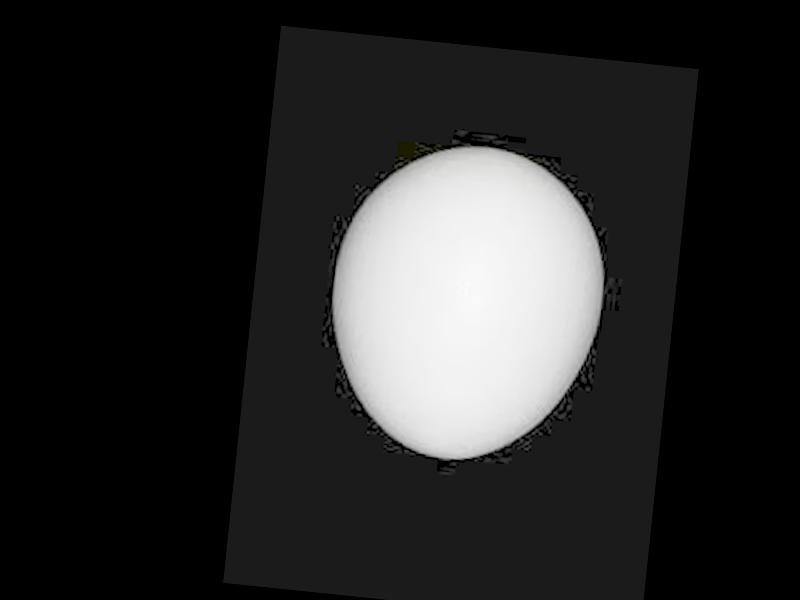Eggs: (317, 135, 615, 469)
